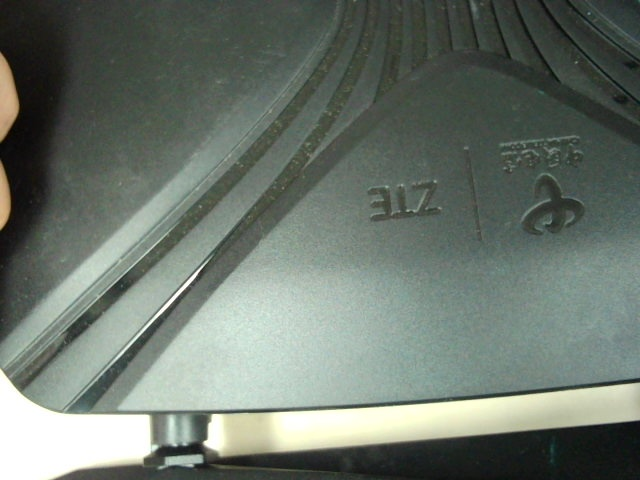AX_ZTEChinaTelecom: (365, 132, 606, 234)
